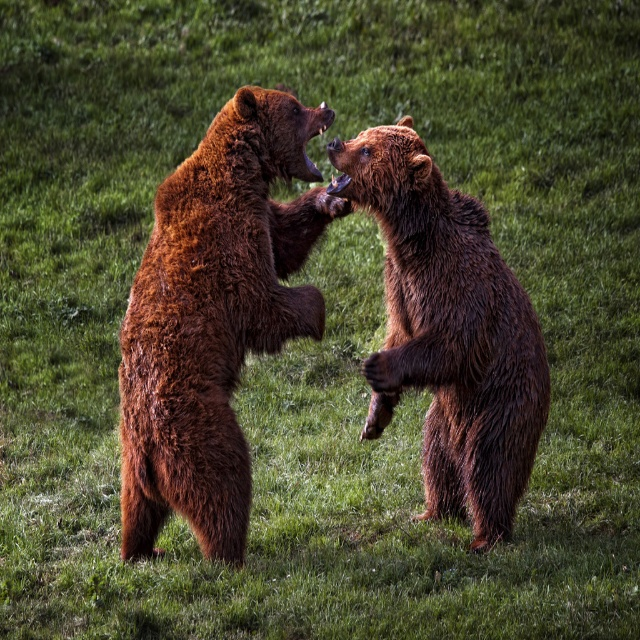Brown bear: (118, 85, 352, 572), (325, 116, 551, 556)
